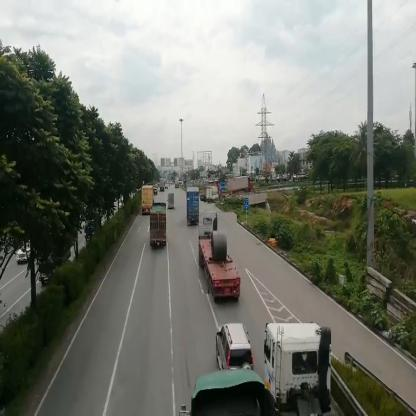car: (215, 324, 252, 371)
container: (266, 324, 333, 416), (200, 213, 238, 296), (187, 188, 200, 226), (229, 179, 256, 194), (142, 186, 154, 211)
truck: (151, 204, 167, 248), (205, 186, 222, 205), (168, 194, 176, 210)
